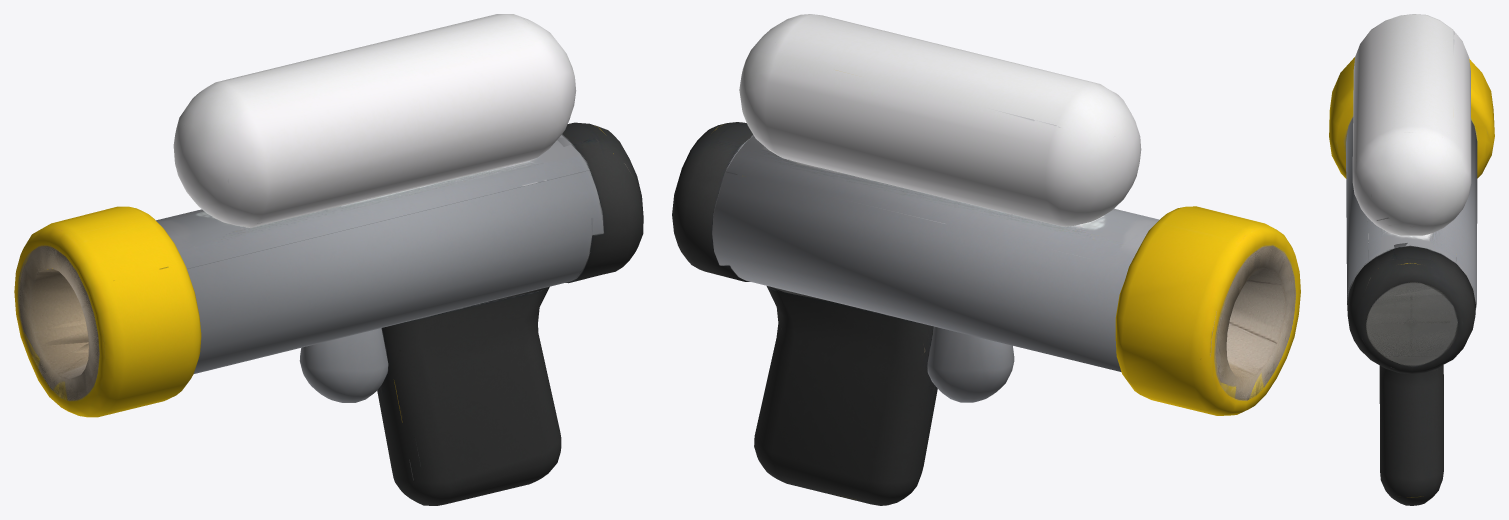
File: 물감총.glb
3 renders of one model, left to right at view 1: azimuth 30°, elevation 25°; view 2: azimuth 150°, elevation 25°; view 3: azimuth 270°, elevation 25°, orthographic. The views are drawn at different scales.
Bounding box in the file's own units: 1 × 0.8028 × 0.3219.
1 material, 1 textured.
